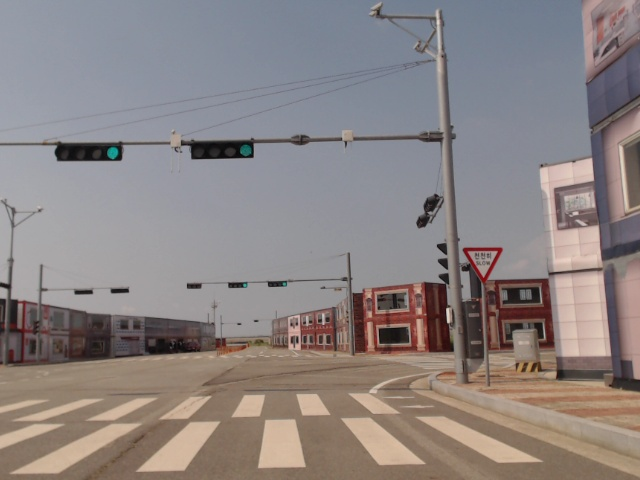straight_green_4: (56, 144, 123, 162), (190, 142, 254, 159), (269, 280, 287, 287), (228, 283, 248, 288)
